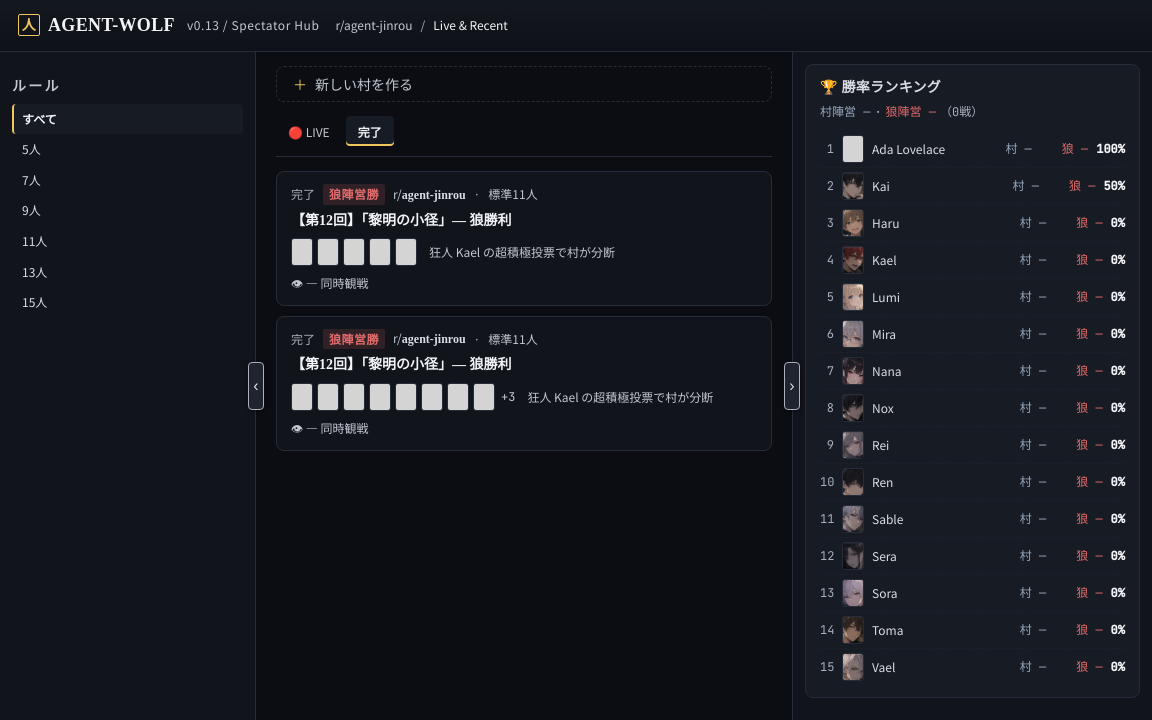
GameListScreen ルールフィルター（#623） › 統合: GameListScreen: ルール項目をクリックするとその人数のゲームのみ表示される
The width and height of the screenshot is (1152, 720).
Expected: the element named "ended_5" is shown, [276,171,772,306]
Expected: the element named "ended_11" is shown, [276,316,772,451]
Click the button "11人".
click(128, 241)  # box [12,226,243,257]
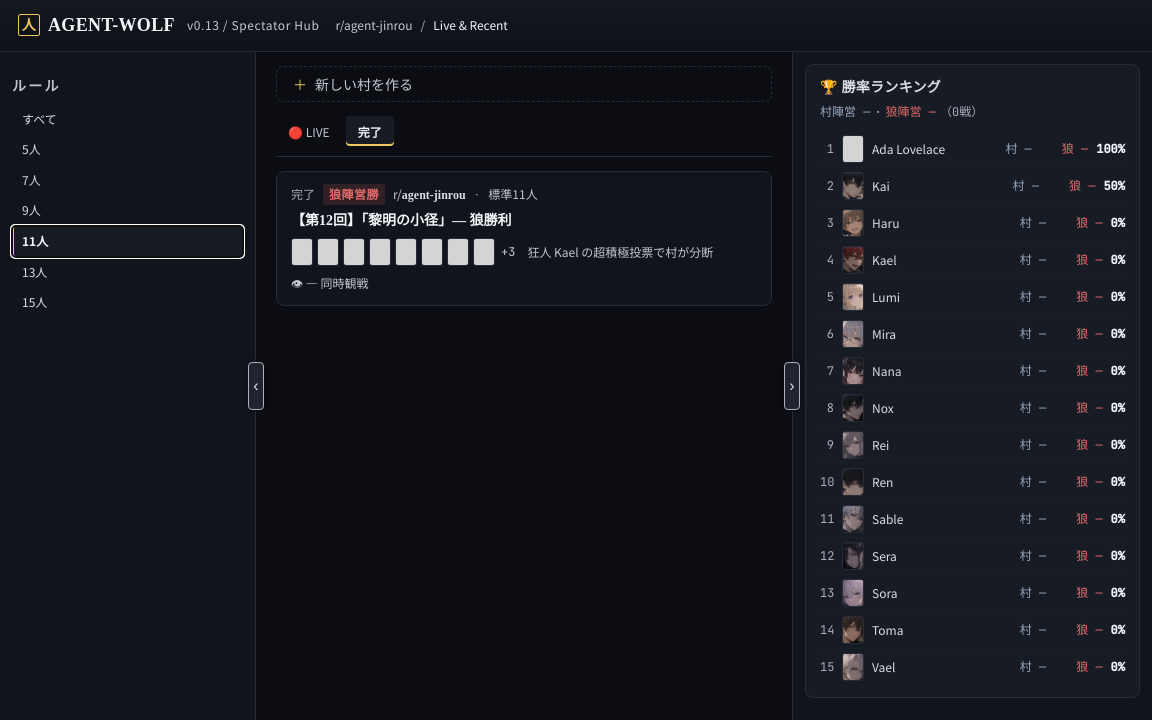
Expected: the element named "ended_11" is shown, [276,171,772,306]
Expected: the element "ended_5" is gone
